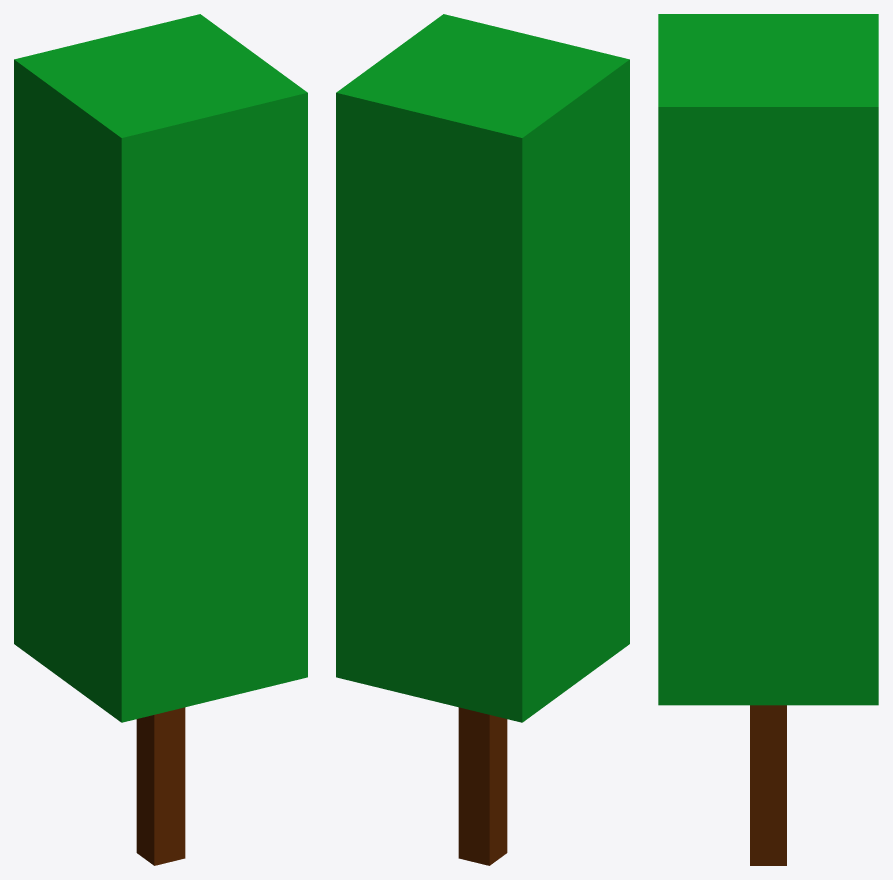
Rendered from trees_4_dark.fbx.
3 renders of one model, left to right at view 1: azimuth 30°, elevation 25°; view 2: azimuth 150°, elevation 25°; view 3: azimuth 270°, elevation 25°, orthographic. The views are drawn at different scales.
Visible parts, largest first — view 1: Cube.056; view 2: Cube.056; view 3: Cube.056.
Part boxes in pixels (left/top/right/bottom): Cube.056: left=14, top=14, right=307, bottom=865; Cube.056: left=336, top=14, right=629, bottom=865; Cube.056: left=658, top=14, right=878, bottom=865.
Bounding box in the file's own units: 300 × 1200 × 300.
1 material, 1 textured.
